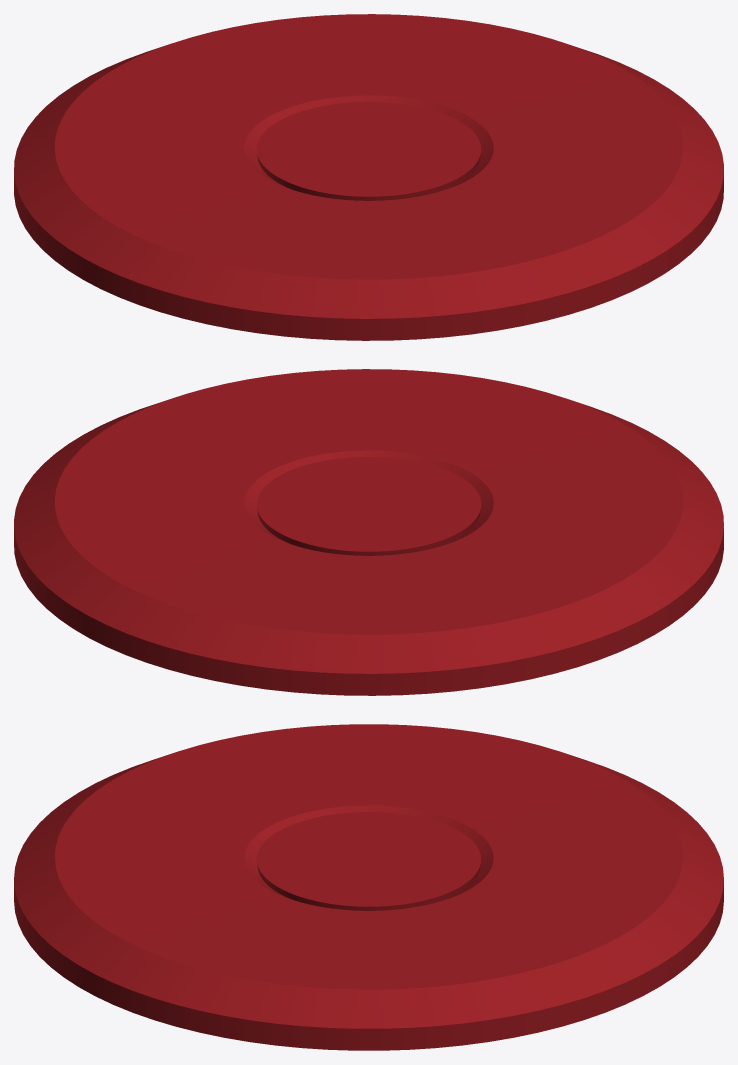
The model's file is super_button_trigger_plate.fbx.
3 views of the same model, one above another, from view 1: azimuth 30°, elevation 25°; view 2: azimuth 150°, elevation 25°; view 3: azimuth 270°, elevation 25° (orthographic).
Parts seen in each view (by area): view 1: Cylinder.011; view 2: Cylinder.011; view 3: Cylinder.011.
Boxes of the visible parts, x1,y1,x2,y2 form: Cylinder.011: (14, 14, 723, 340); Cylinder.011: (14, 369, 723, 695); Cylinder.011: (14, 724, 723, 1050).
Bounding box in the file's own units: 168 × 11.48 × 168.
